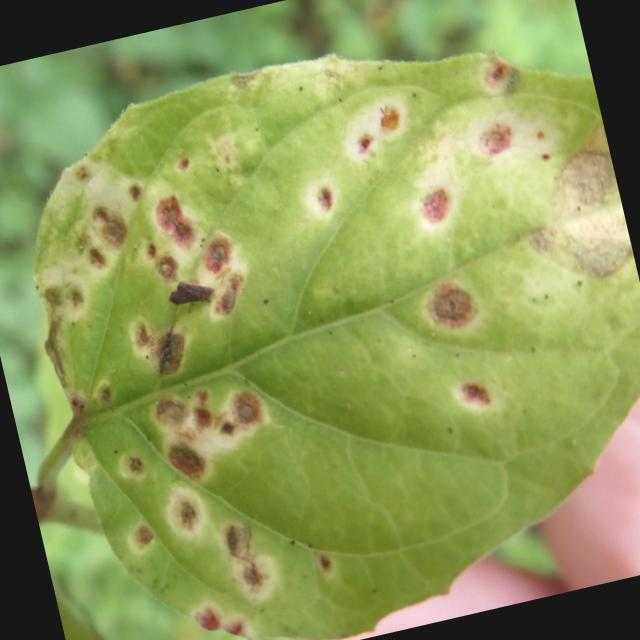leaf_spot: (34, 54, 640, 638)
